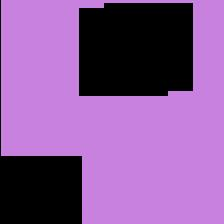purple: (0, 1, 224, 223)
